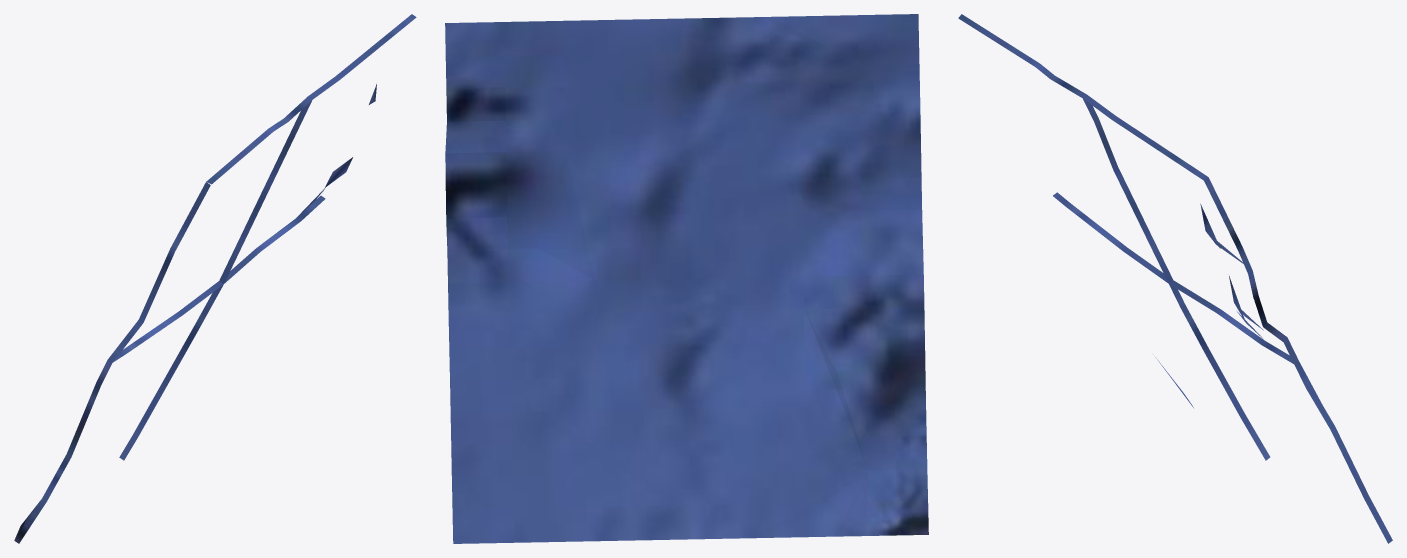
3 views of the same model, side by side, from view 1: azimuth 30°, elevation 25°; view 2: azimuth 150°, elevation 25°; view 3: azimuth 270°, elevation 25° (orthographic). The views are drawn at different scales.
Bounding box in the file's own units: 19769 × 17819 × 16957.
Materials: 1 (1 with a texture image).
